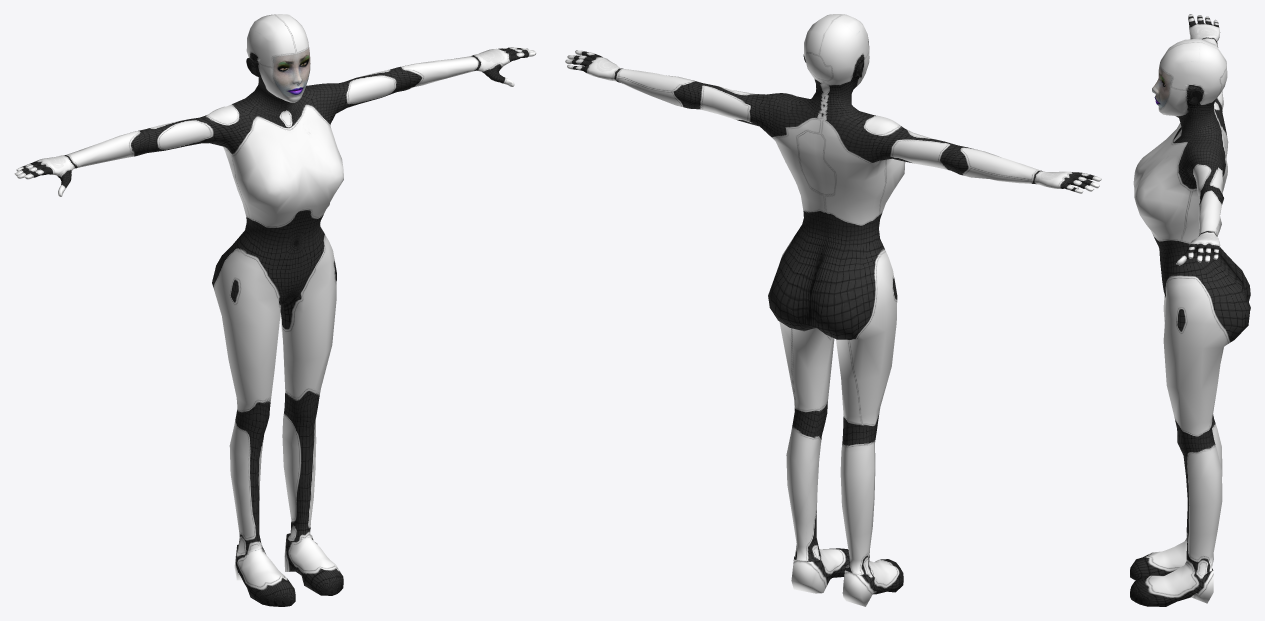
Rendered from JalecsDeath.fbx.
3 renders of one model, left to right at view 1: azimuth 30°, elevation 25°; view 2: azimuth 150°, elevation 25°; view 3: azimuth 270°, elevation 25°, orthographic. The views are drawn at different scales.
Parts seen in each view (by area): view 1: H_DDS_LowRes; view 2: H_DDS_LowRes; view 3: H_DDS_LowRes.
Part boxes in pixels (<box>): H_DDS_LowRes: <box>14,14,536,606</box>; H_DDS_LowRes: <box>565,14,1101,606</box>; H_DDS_LowRes: <box>1130,14,1250,606</box>.
Size of the model in its own units: 174 by 180 by 36.15.
1 material, 1 textured.
